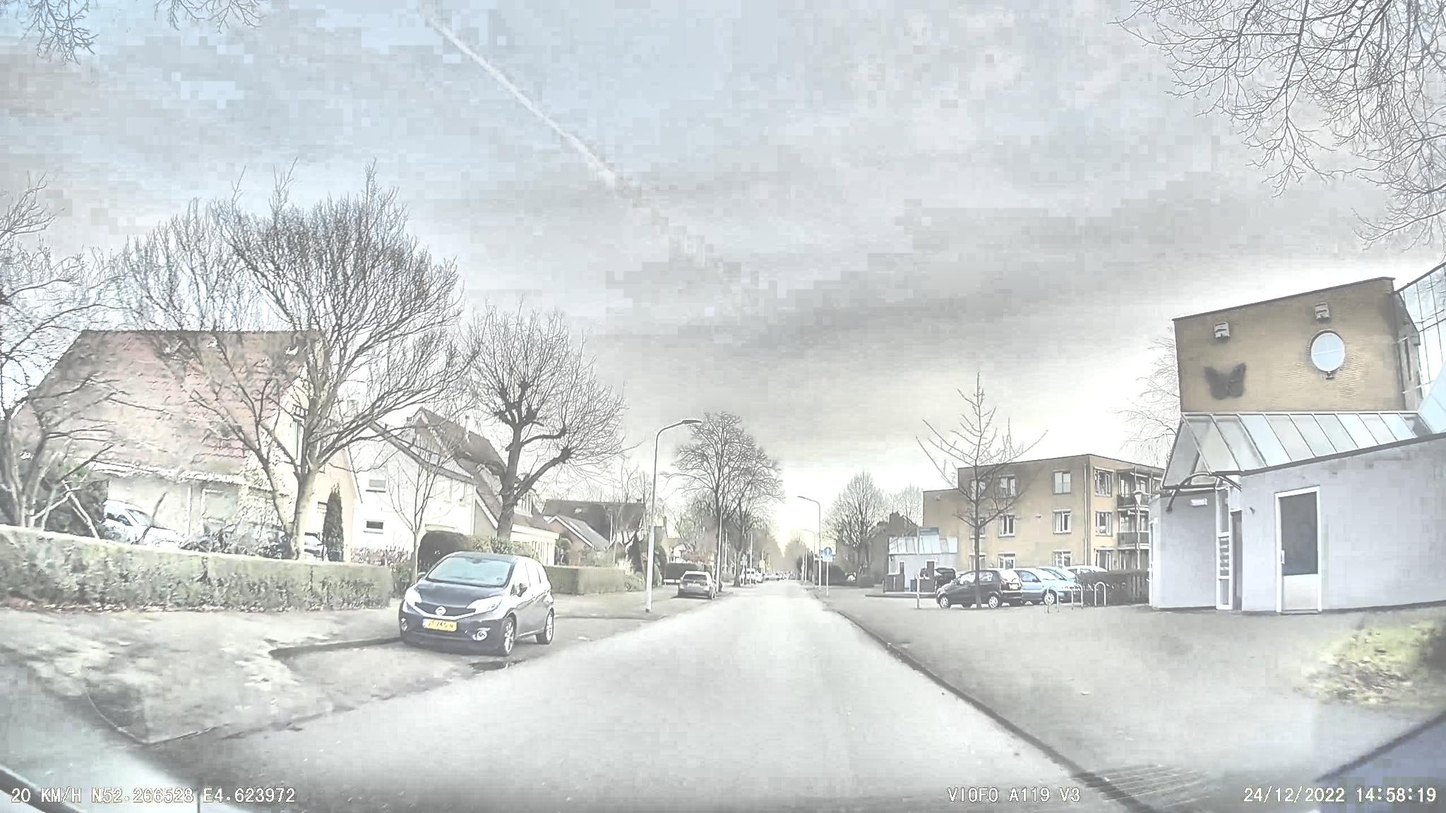Roads: (141, 583, 1138, 813)
